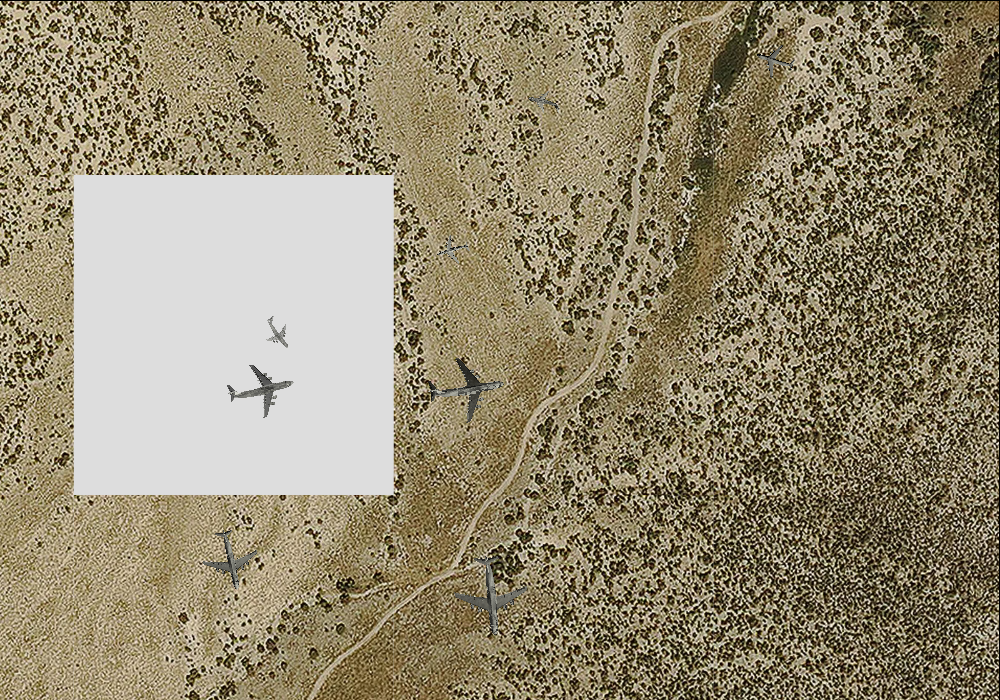plane: (422, 345, 509, 430), (449, 552, 531, 638), (220, 349, 300, 427), (195, 524, 264, 596), (751, 36, 800, 83), (254, 309, 301, 356), (432, 230, 473, 269), (524, 85, 563, 120)
